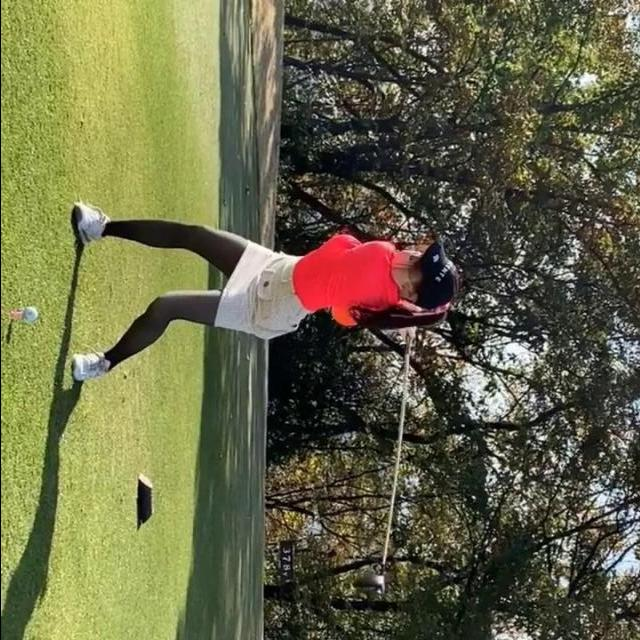golf ball: (23, 306, 37, 321)
golf club-handle: (353, 328, 415, 593)
golf club-head: (353, 572, 383, 594)
